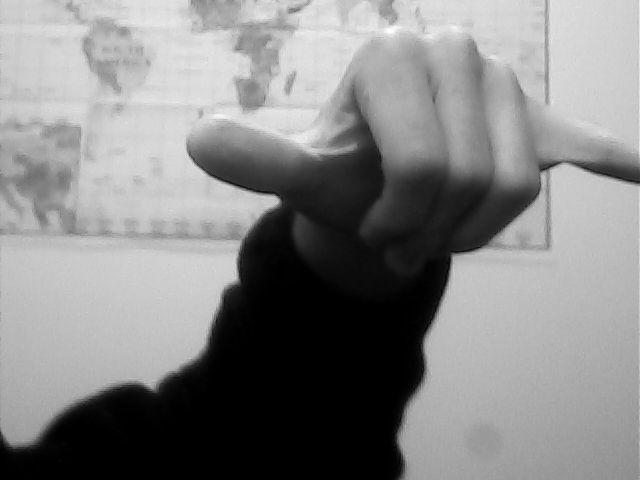aloha: (181, 22, 640, 280)
